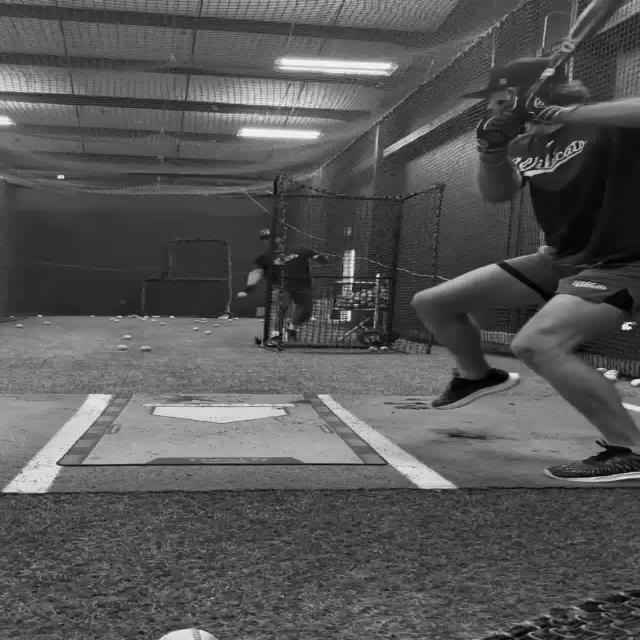base: (144, 404, 290, 421)
baseball: (159, 628, 218, 640), (602, 370, 618, 380), (629, 378, 639, 386), (116, 344, 128, 350), (122, 335, 132, 340), (236, 292, 246, 297), (139, 346, 151, 350), (43, 321, 51, 325), (15, 324, 23, 328), (36, 314, 42, 318), (213, 323, 219, 327), (204, 331, 212, 334), (192, 327, 199, 330)
bat: (517, 0, 630, 103)
shoe: (542, 440, 639, 482), (430, 367, 520, 410)
